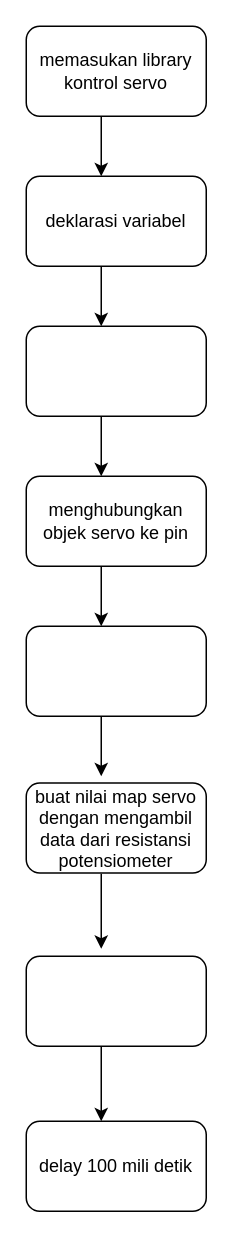
Image size: 233x1238. Some labels were removed from this diagram. Each missing label, with the box of its shape:
baca nilai analog dari potensiometer: (25, 625, 206, 716)
membuat objek servo: (25, 325, 206, 416)
menggerakkan servo menggunakan data dari map: (25, 955, 206, 1046)
